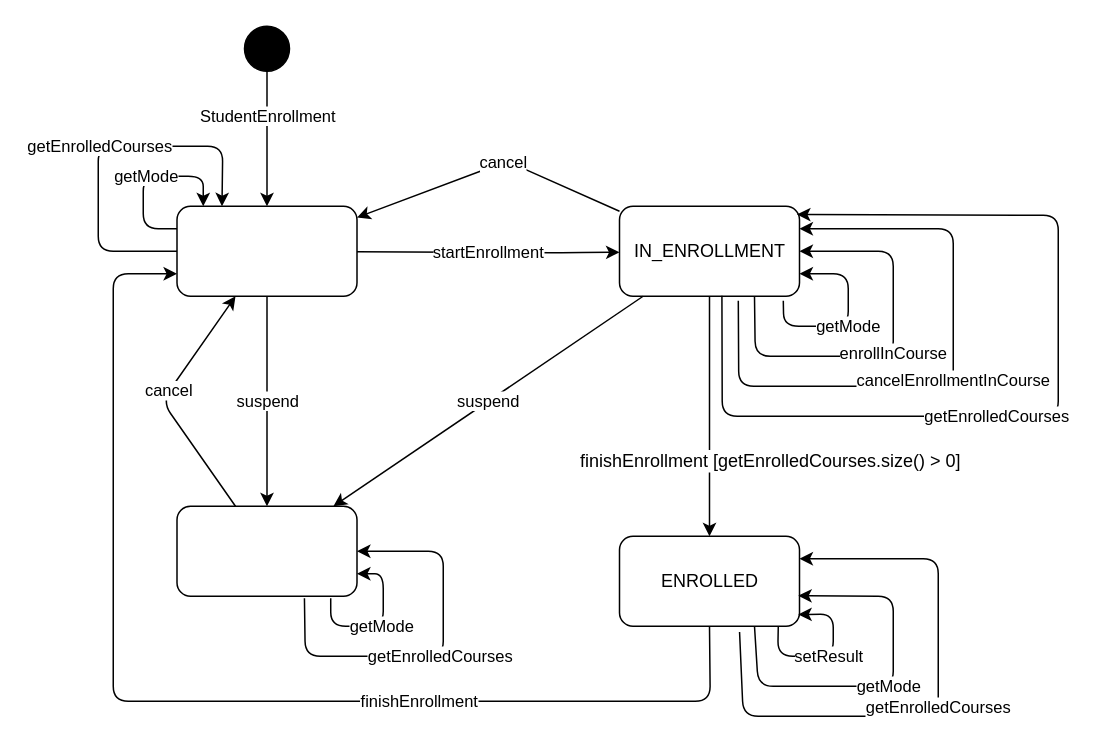
Image size: 1097x755. Some labels were removed from this diagram. Here are the shapes that lost their labels. From the top down, the centre of each, then its label:
point 266,250: NOT_ENROLLED
point 266,550: SUSPENDED
